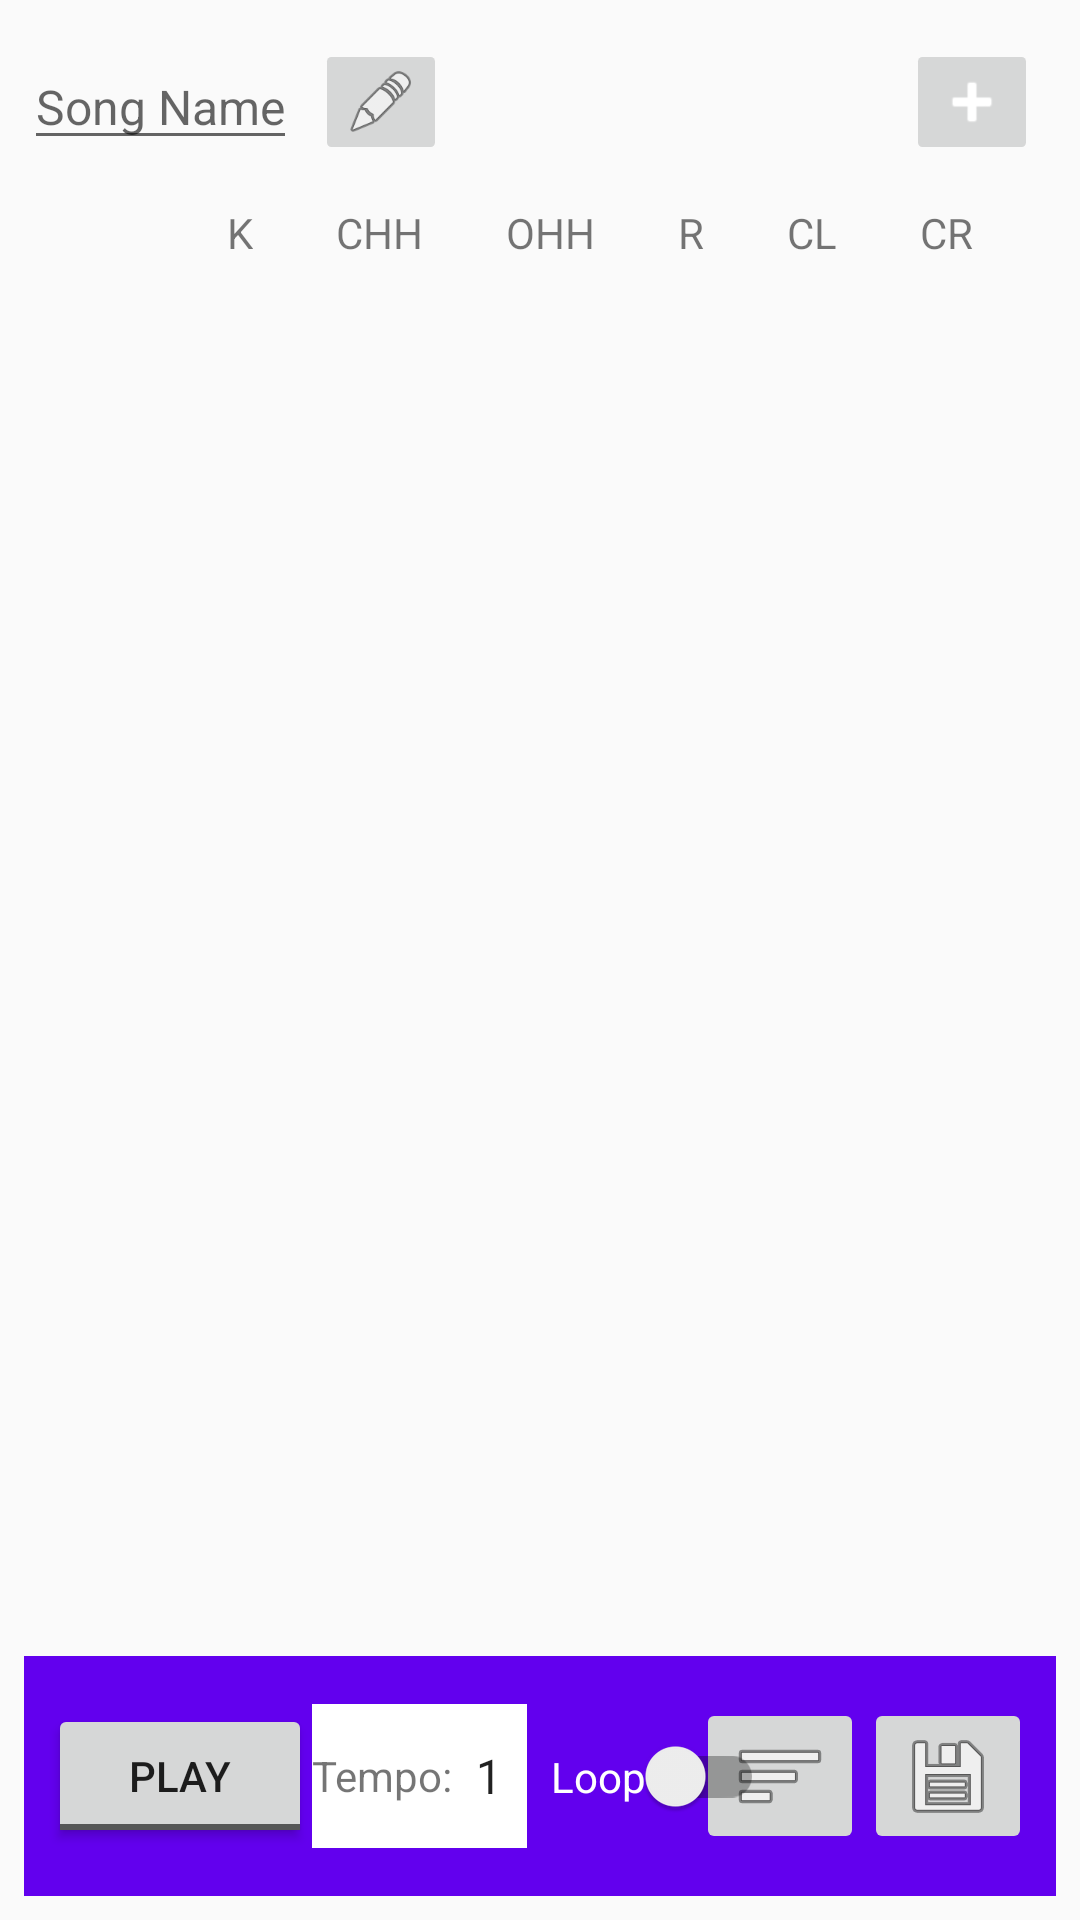

Icons on this 1080x1920 Android screen, each with the point to tap as (x,y):
Save Button: (948,1776)
